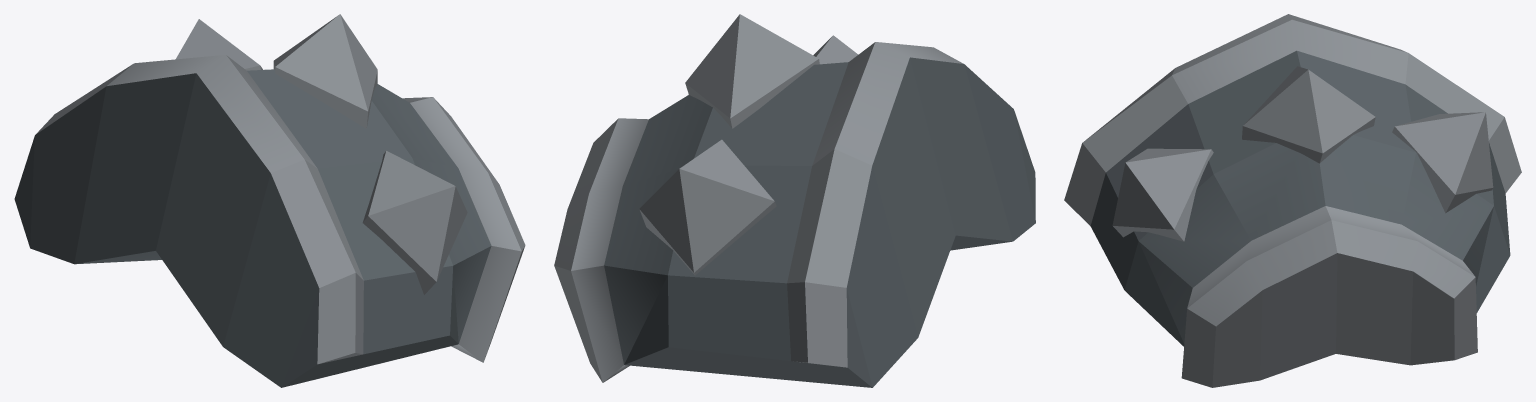
Rendered from Chr_ShoulderAttachLeft_05_Static.fbx.
The picture shows the model from 3 angles, left to right: view 1: azimuth 30°, elevation 25°; view 2: azimuth 150°, elevation 25°; view 3: azimuth 270°, elevation 25°; orthographic projection. The views are drawn at different scales.
Parts seen in each view (by area): view 1: Chr_ShoulderAttachLeft_05_Static; view 2: Chr_ShoulderAttachLeft_05_Static; view 3: Chr_ShoulderAttachLeft_05_Static.
Part boxes in pixels (x1,y1,x2,y2): Chr_ShoulderAttachLeft_05_Static: [14, 14, 525, 387]; Chr_ShoulderAttachLeft_05_Static: [554, 14, 1035, 387]; Chr_ShoulderAttachLeft_05_Static: [1064, 14, 1521, 387].
Size of the model in its own units: 0.2243 by 0.1902 by 0.284.
